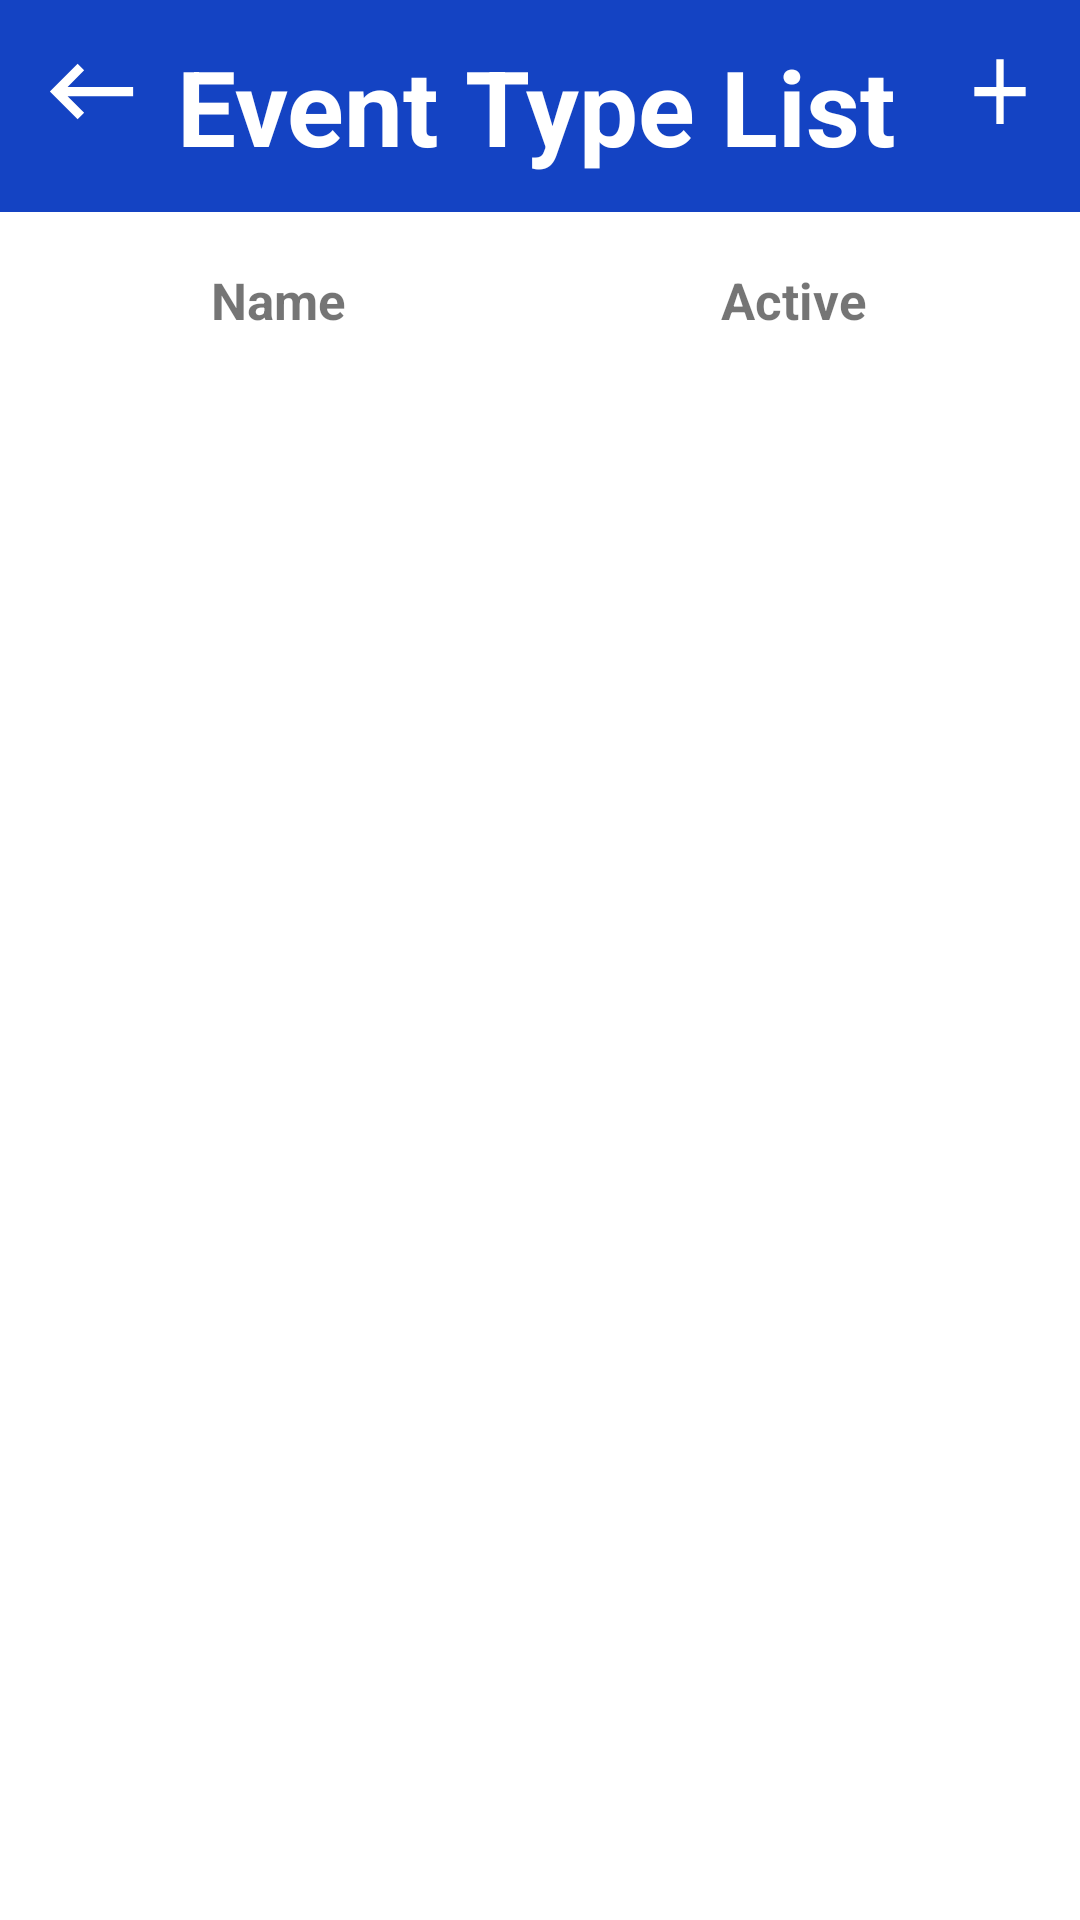

Icon click points for this 1080px×1920px phone screenshot, format point (x, y):
add: point (1000, 91)
back arrow: point (92, 91)
